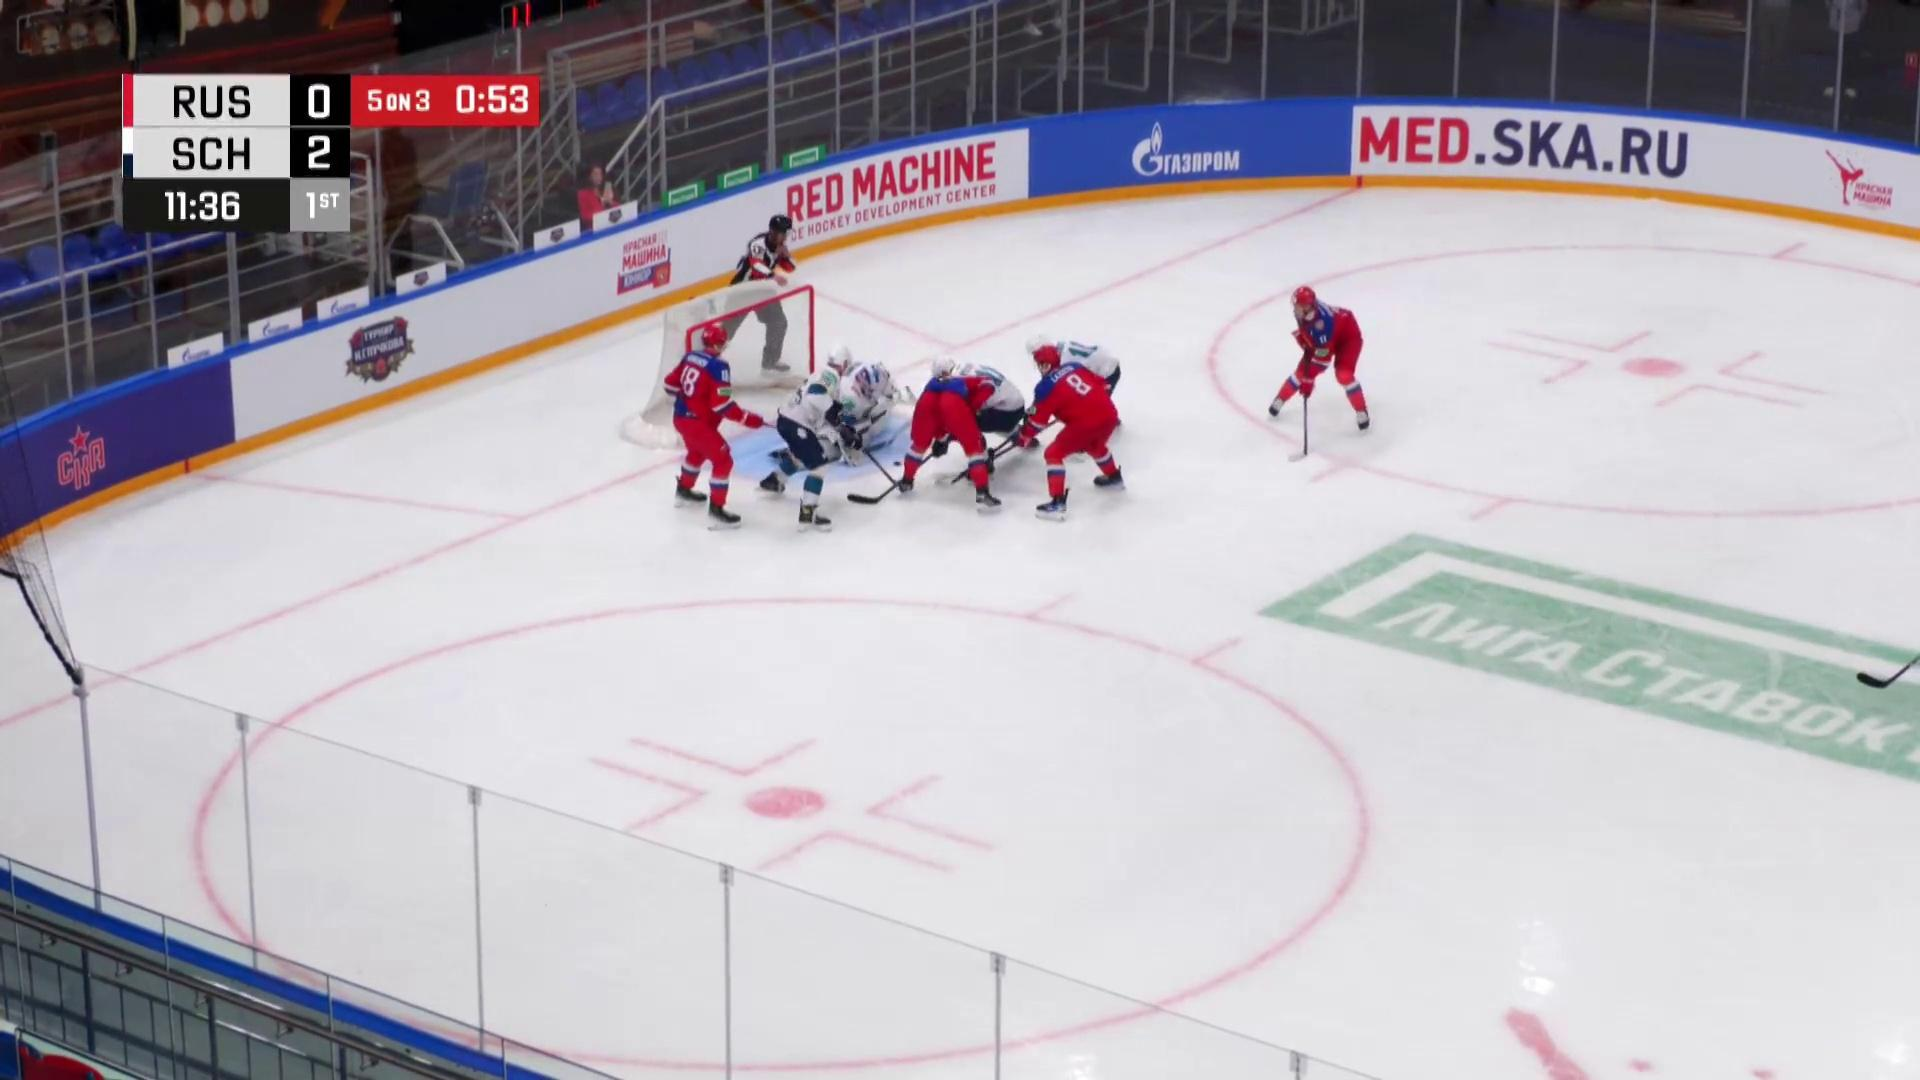ball: (894, 462, 902, 467)
